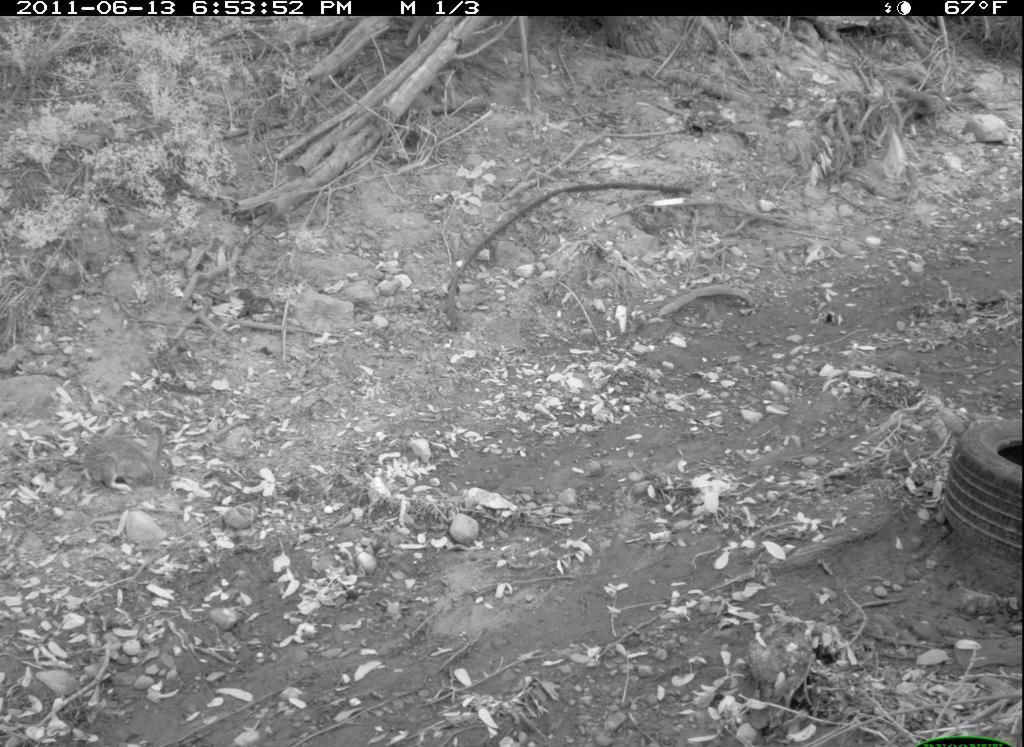rabbit: (73, 424, 191, 497)
